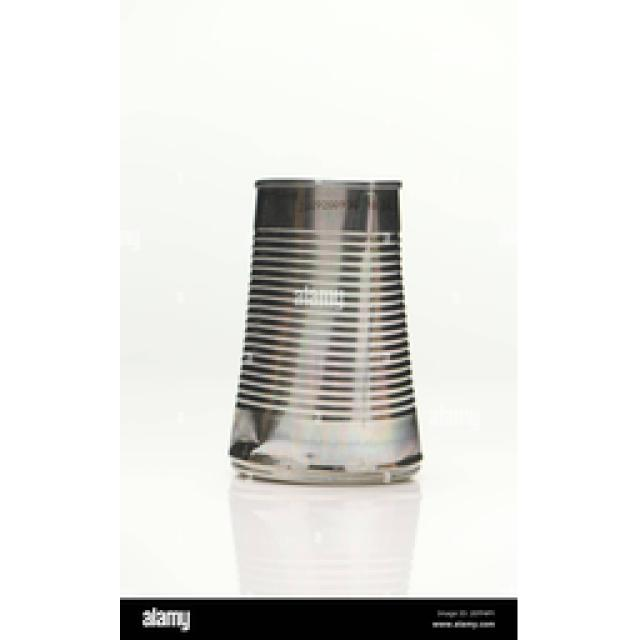alumunium: (230, 180, 420, 480)
